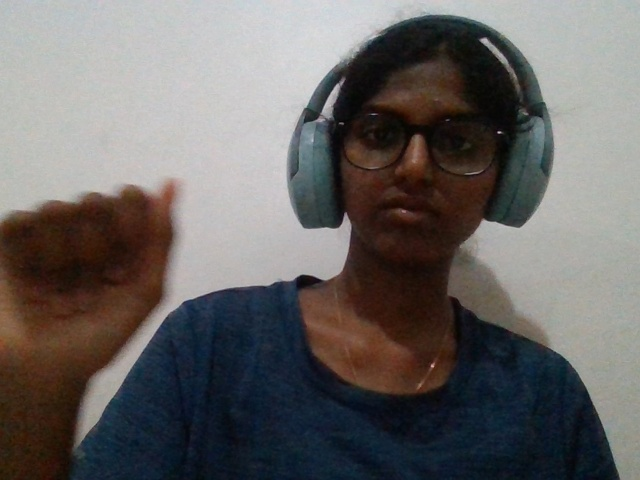A: (2, 167, 191, 423)
